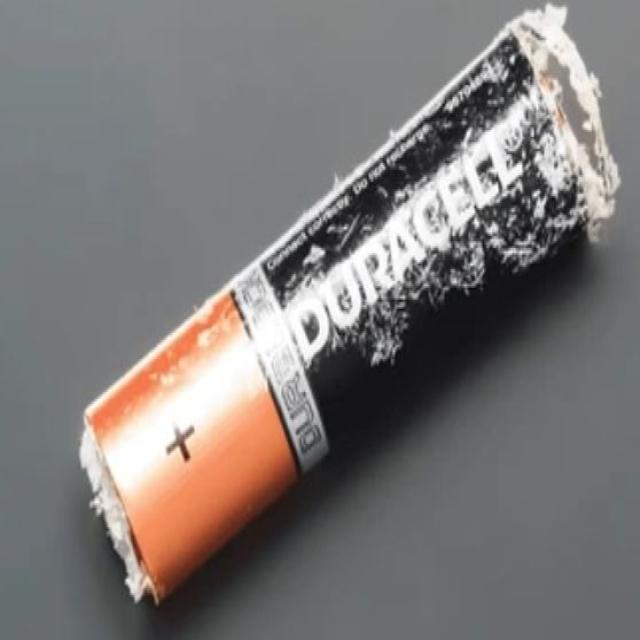electronic: (16, 0, 619, 619)
